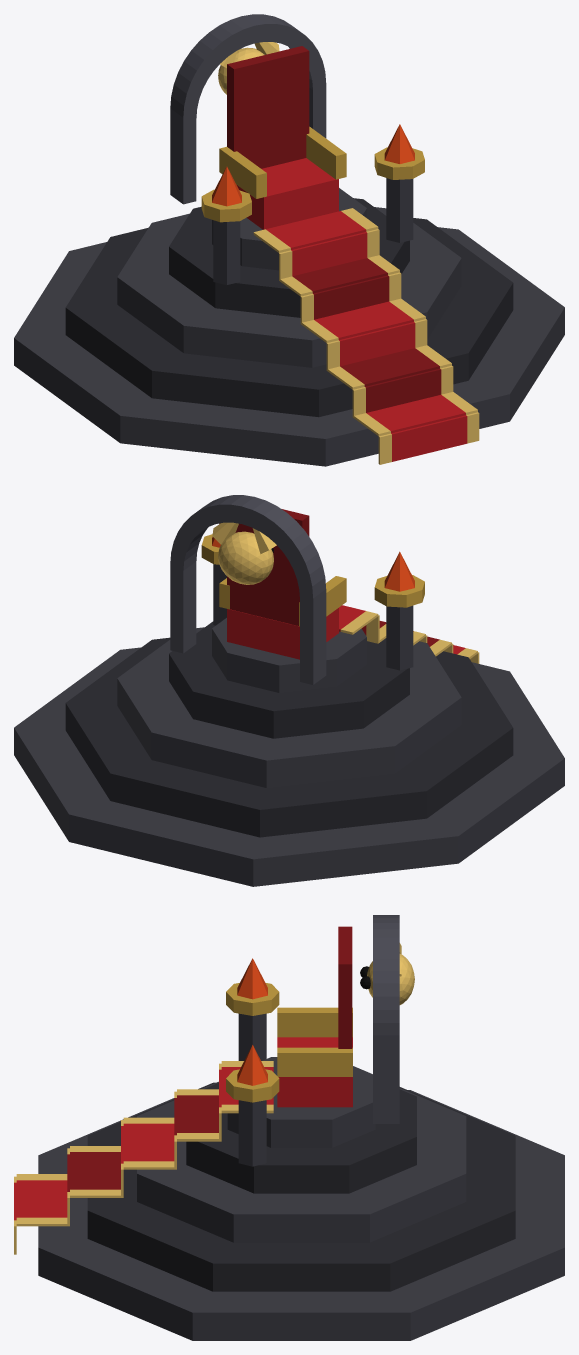
Rendered from throne_centerpiece.obj.
3 renders of one model, top to bottom at view 1: azimuth 30°, elevation 25°; view 2: azimuth 150°, elevation 25°; view 3: azimuth 270°, elevation 25°, orthographic. The views are drawn at different scales.
Parts seen in each view (by area): view 1: geometry_0, geometry_1, geometry_2, geometry_44, geometry_47, geometry_3, geometry_43, geometry_5, geometry_32, geometry_20, geometry_8, geometry_23 (+14 smaller); view 2: geometry_0, geometry_1, geometry_2, geometry_3, geometry_47, geometry_4, geometry_44, geometry_43, geometry_50, geometry_35, geometry_36, geometry_37 (+2 smaller); view 3: geometry_0, geometry_1, geometry_2, geometry_3, geometry_47, geometry_4, geometry_43, geometry_46, geometry_20, geometry_8, geometry_45, geometry_14 (+9 smaller).
Part boxes in pixels (bbox=[...]): geometry_0: bbox=[14, 227, 564, 466]; geometry_1: bbox=[65, 218, 513, 417]; geometry_2: bbox=[117, 207, 461, 367]; geometry_44: bbox=[227, 46, 309, 168]; geometry_47: bbox=[170, 14, 326, 204]; geometry_3: bbox=[169, 198, 409, 317]; geometry_43: bbox=[237, 158, 338, 229]; geometry_5: bbox=[391, 415, 467, 461]; geometry_32: bbox=[266, 211, 366, 249]; geometry_20: bbox=[314, 301, 413, 339]; geometry_8: bbox=[366, 395, 465, 433]; geometry_23: bbox=[313, 275, 389, 319]; geometry_0: bbox=[14, 647, 564, 886]; geometry_1: bbox=[65, 637, 513, 837]; geometry_2: bbox=[117, 627, 461, 787]; geometry_3: bbox=[169, 621, 409, 738]; geometry_47: bbox=[170, 495, 326, 684]; geometry_4: bbox=[212, 618, 366, 692]; geometry_44: bbox=[227, 509, 309, 625]; geometry_43: bbox=[227, 608, 338, 659]; geometry_50: bbox=[218, 531, 273, 584]; geometry_35: bbox=[386, 605, 413, 670]; geometry_36: bbox=[374, 575, 424, 607]; geometry_37: bbox=[384, 551, 414, 591]; geometry_0: bbox=[38, 1090, 564, 1340]; geometry_1: bbox=[87, 1082, 515, 1291]; geometry_2: bbox=[137, 1081, 466, 1242]; geometry_3: bbox=[186, 1083, 416, 1193]; geometry_47: bbox=[373, 915, 399, 1123]; geometry_4: bbox=[227, 1057, 375, 1147]; geometry_43: bbox=[277, 1037, 352, 1107]; geometry_46: bbox=[277, 1047, 352, 1076]; geometry_20: bbox=[123, 1123, 174, 1161]; geometry_8: bbox=[16, 1180, 67, 1217]; geometry_45: bbox=[277, 1007, 352, 1037]; geometry_14: bbox=[70, 1152, 120, 1189].
Bounding box in the file's own units: 5.91 × 3.8 × 6.19.
